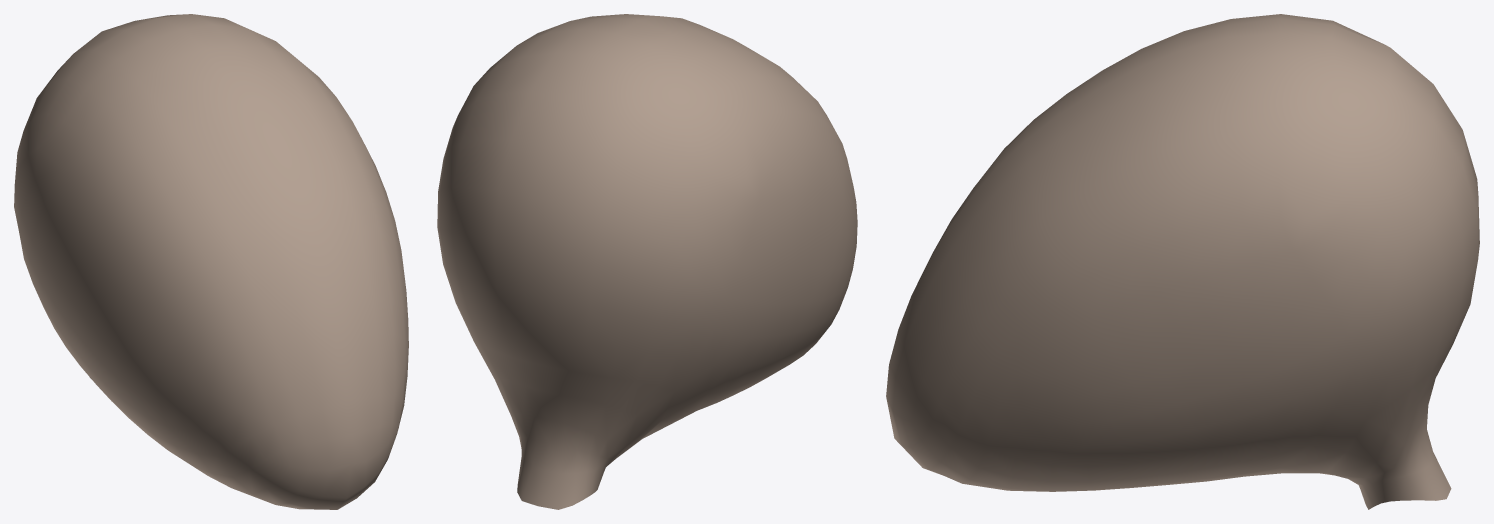
The model's file is golemHead.fbx.
3 renders of one model, left to right at view 1: azimuth 30°, elevation 25°; view 2: azimuth 150°, elevation 25°; view 3: azimuth 270°, elevation 25°, orthographic. The views are drawn at different scales.
Parts seen in each view (by area): view 1: polySurface39; view 2: polySurface39; view 3: polySurface39.
Boxes of the visible parts, bbox=[...] form: polySurface39: bbox=[14, 14, 408, 509]; polySurface39: bbox=[437, 14, 857, 509]; polySurface39: bbox=[886, 14, 1479, 509].
Bounding box in the file's own units: 24.92 × 32.71 × 37.31.
